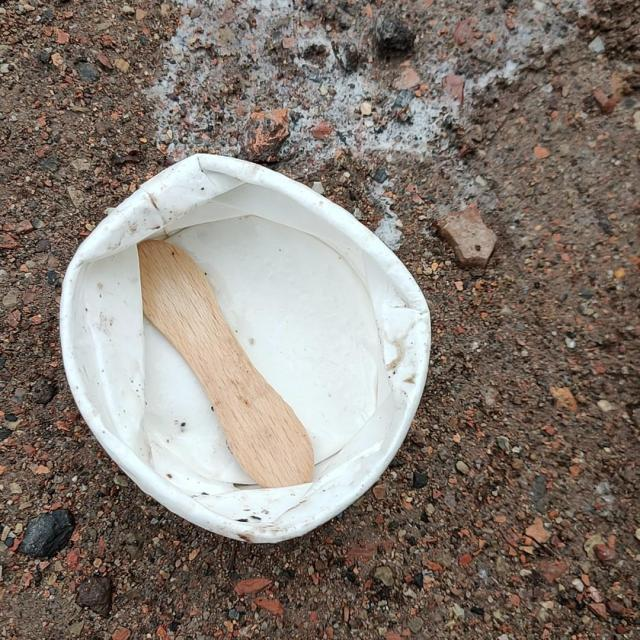Paper: (47, 150, 438, 551)
